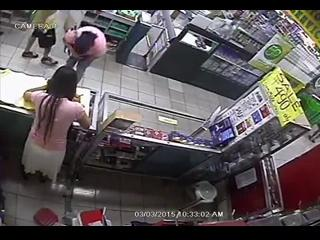Normal: (20, 66, 92, 192), (62, 26, 107, 84), (22, 11, 58, 66)
